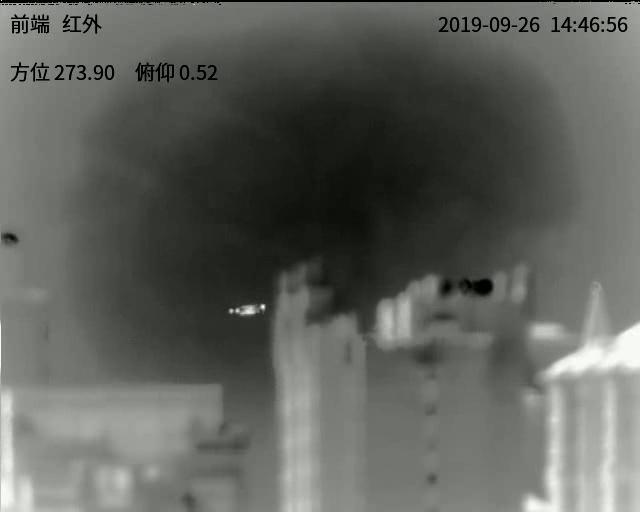DRONE: (226, 302, 267, 317)
